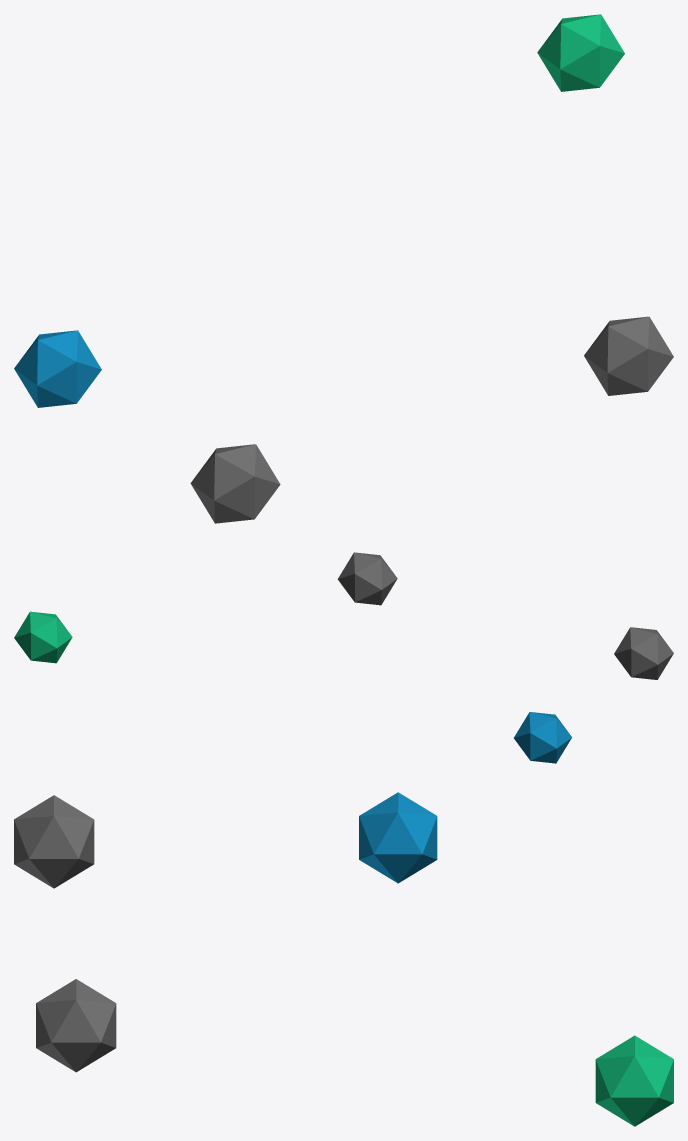
3 renders of one model, top to bottom at view 1: azimuth 30°, elevation 25°; view 2: azimuth 150°, elevation 25°; view 3: azimuth 270°, elevation 25°, orthographic. The views are drawn at different scales.
Visible parts, largest first — view 1: 00_07_00; view 2: 00_07_00; view 3: 00_07_00.
Boxes of the visible parts, left/top/right/bottom form: 00_07_00: left=14, top=14, right=673, bottom=523; 00_07_00: left=14, top=552, right=673, bottom=763; 00_07_00: left=14, top=792, right=673, bottom=1126.
Size of the model in its own units: 0.5868 by 0.1166 by 0.4574.
